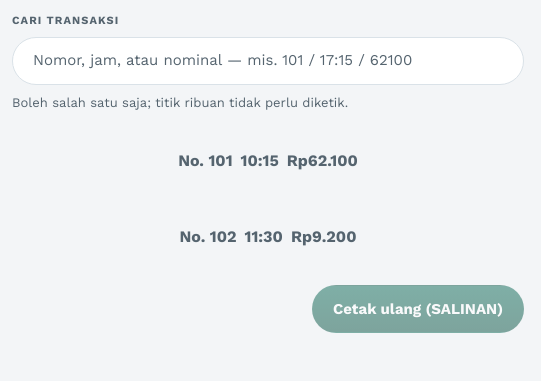
Test: DaftarTransaksi — pencarian › memberi jalan keluar saat tidak ada yang cocok, bukan layar kosong
Step 1. Type "999999" into the field labelled "Cari transaksi" → {"x": 268, "y": 61}, box [12, 37, 524, 85]
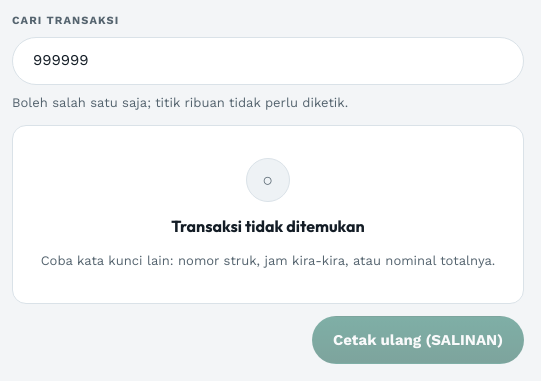
Now the text "Transaksi tidak ditemukan" is shown, box [171, 214, 365, 239]
Now the text "Coba kata kunci lain" is shown, box [41, 253, 495, 268]
